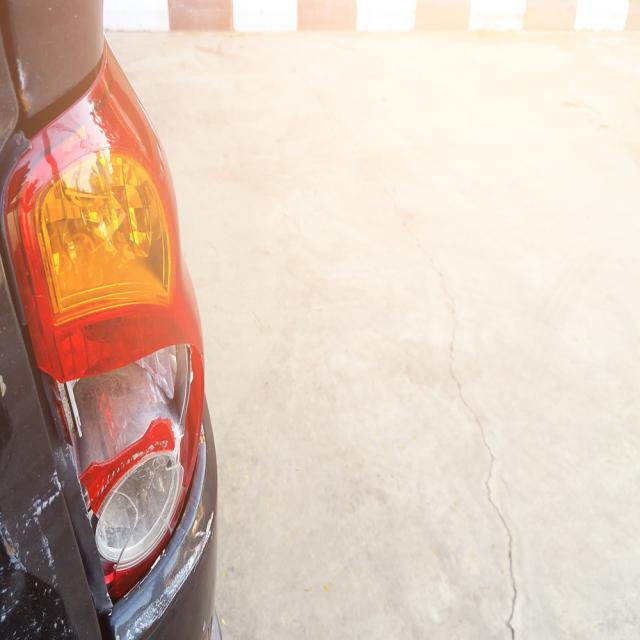Phare abime: (21, 335, 197, 577)
